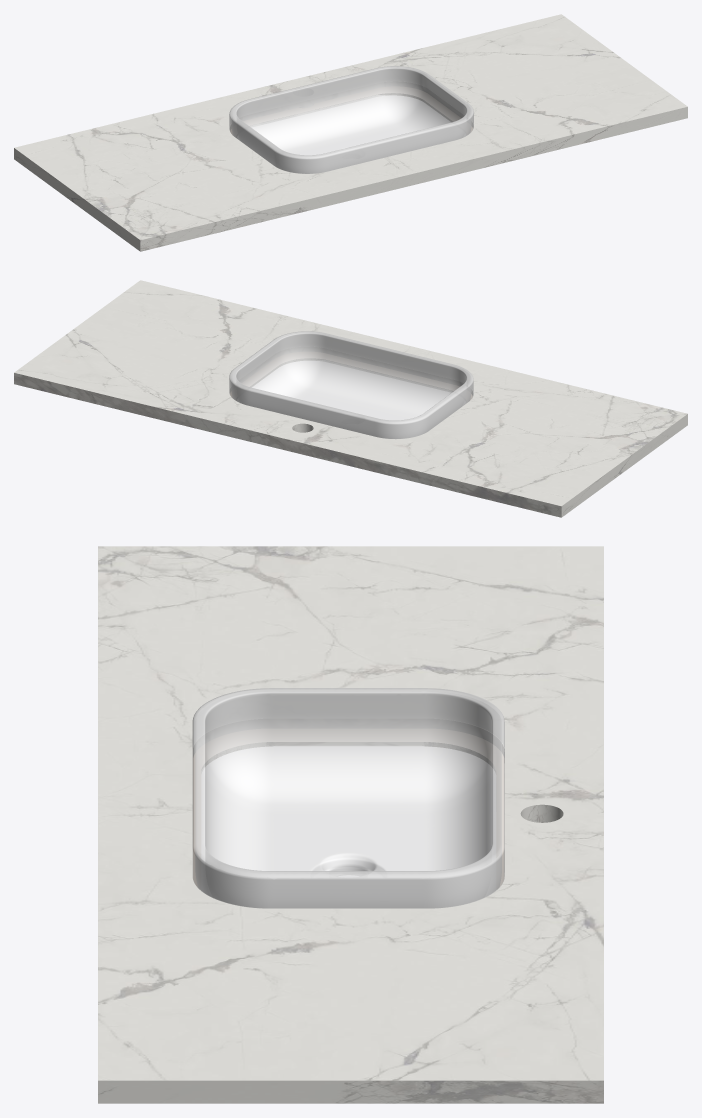
3 renders of one model, top to bottom at view 1: azimuth 30°, elevation 25°; view 2: azimuth 150°, elevation 25°; view 3: azimuth 270°, elevation 25°, orthographic. The views are drawn at different scales.
Parts seen in each view (by area): view 1: FA 145 (полувстраиваемая) cer, FA 145 (полувстраиваемая); view 2: FA 145 (полувстраиваемая) cer, FA 145 (полувстраиваемая); view 3: FA 145 (полувстраиваемая) cer, FA 145 (полувстраиваемая).
Boxes of the visible parts, bbox=[...] form: FA 145 (полувстраиваемая) cer: bbox=[14, 14, 687, 251]; FA 145 (полувстраиваемая): bbox=[229, 66, 473, 173]; FA 145 (полувстраиваемая) cer: bbox=[14, 280, 687, 517]; FA 145 (полувстраиваемая): bbox=[229, 331, 473, 439]; FA 145 (полувстраиваемая) cer: bbox=[98, 546, 603, 1103]; FA 145 (полувстраиваемая): bbox=[192, 688, 504, 908].
Size of the model in its own units: 1.5 by 0.134 by 0.6.
Materials: 3 (1 with a texture image).
